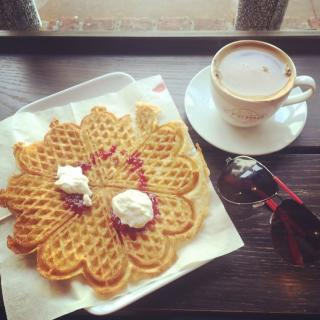Waffle: (0, 105, 209, 294)
